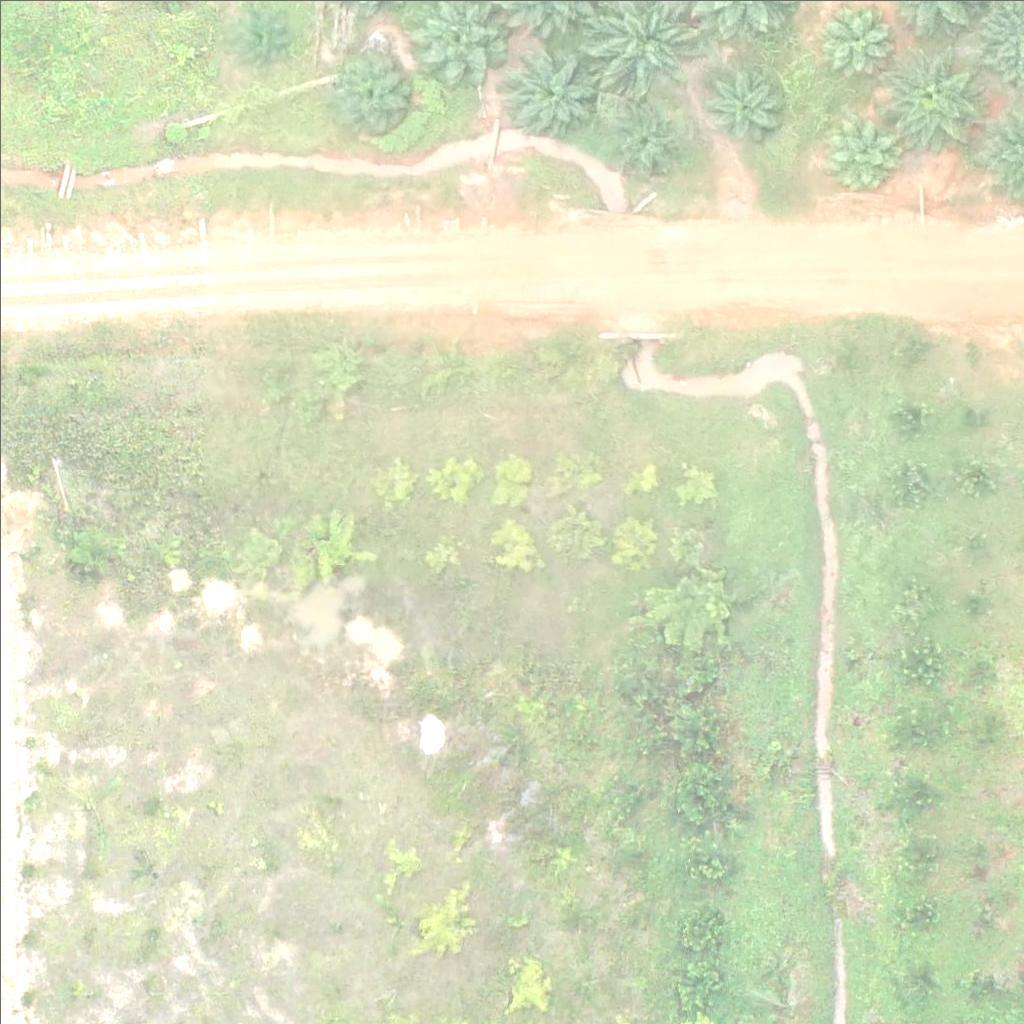Kelapa_Sawit: (882, 50, 982, 151), (504, 44, 592, 132), (698, 57, 785, 146), (810, 105, 897, 193), (331, 56, 406, 132), (817, 1, 892, 76), (610, 106, 672, 169), (235, 6, 285, 56)
